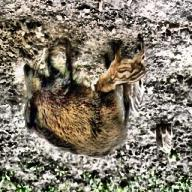boar: (22, 39, 131, 159), (96, 35, 146, 93)
